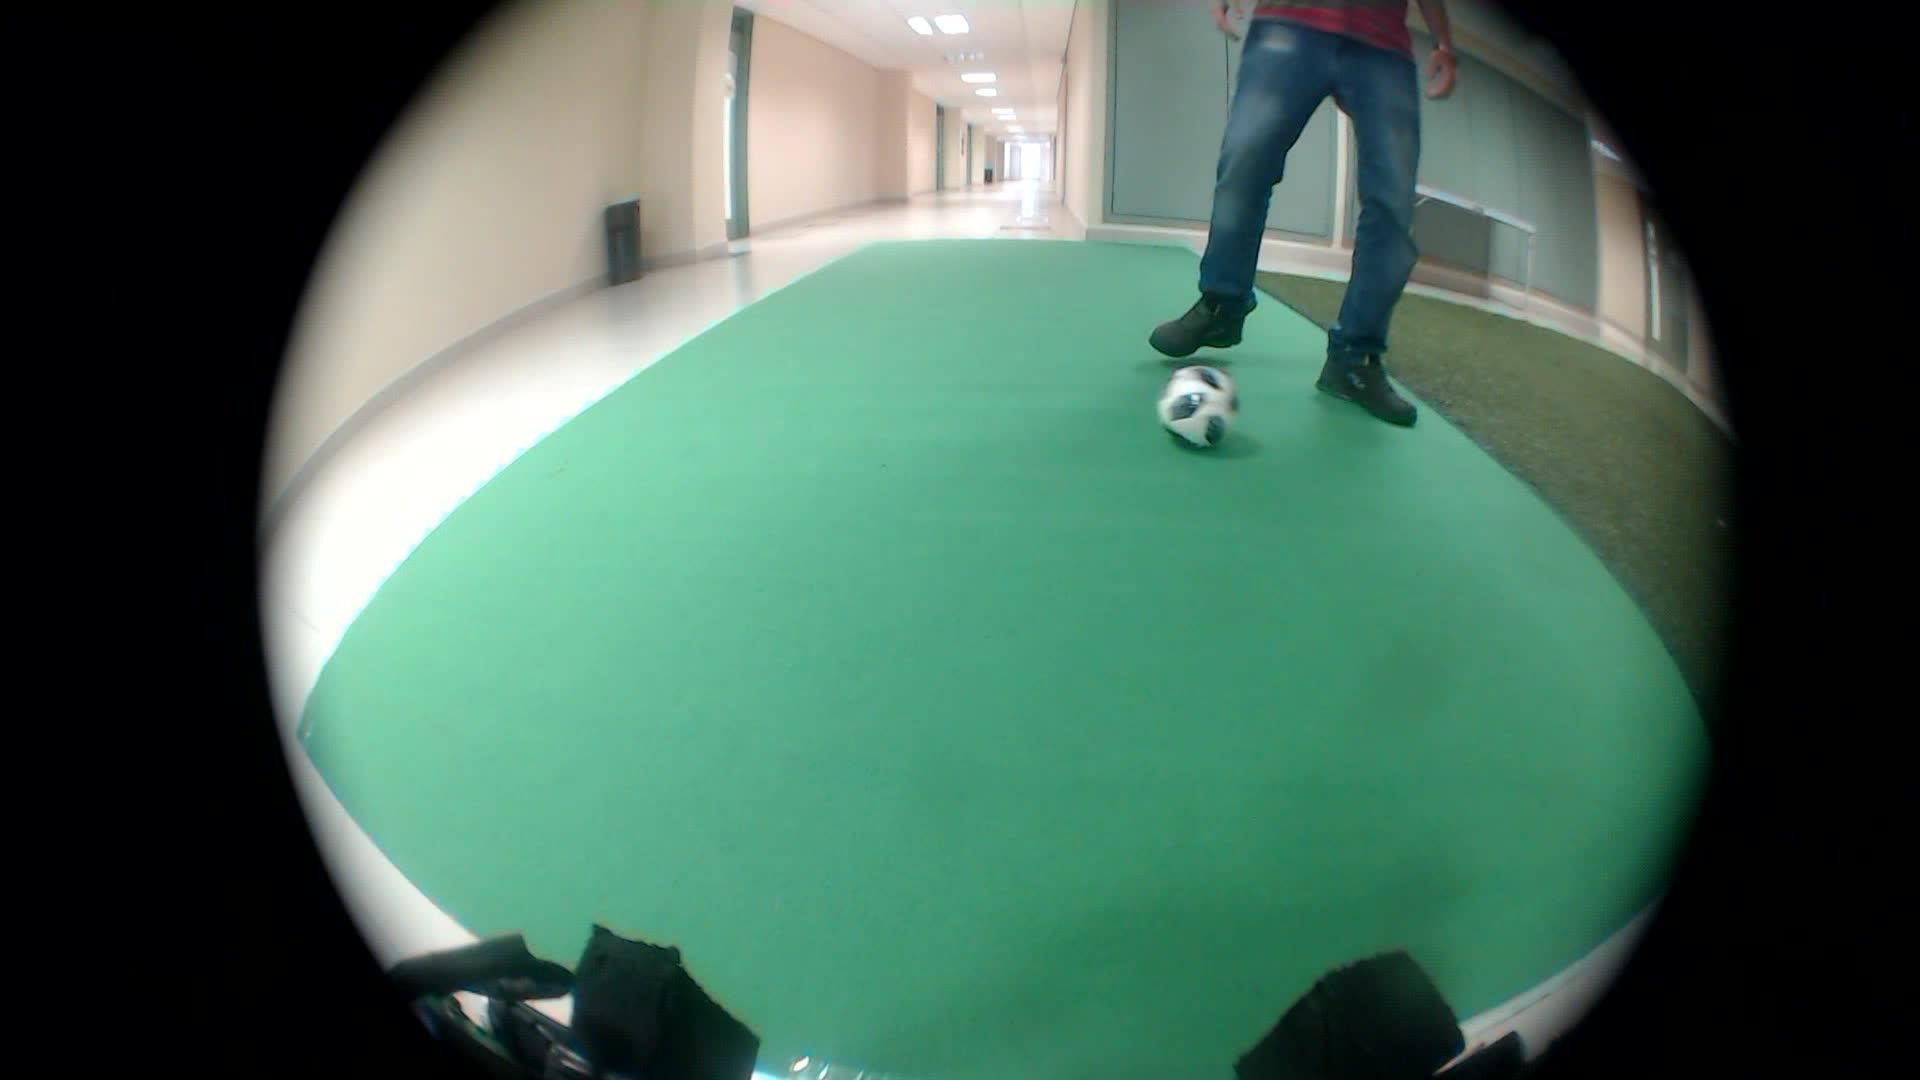ball: (1145, 343, 1251, 458)
